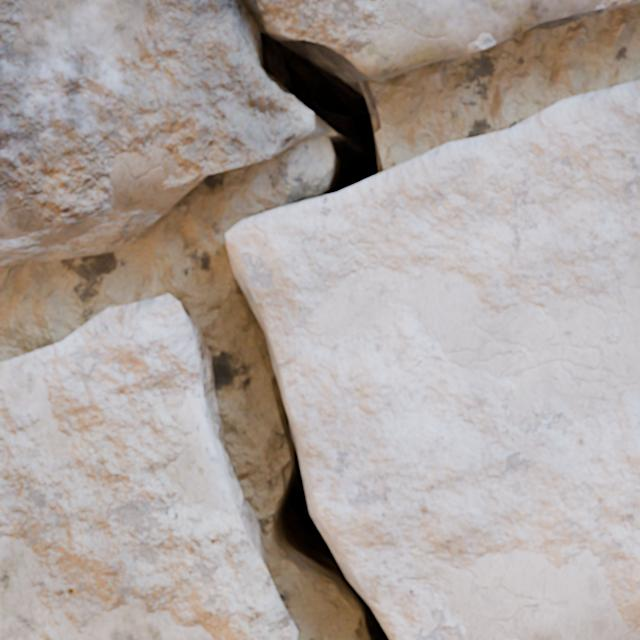broken_brick: (0, 0, 306, 266), (250, 0, 639, 81), (309, 121, 331, 138)
crack: (225, 0, 639, 639), (0, 294, 297, 639)
